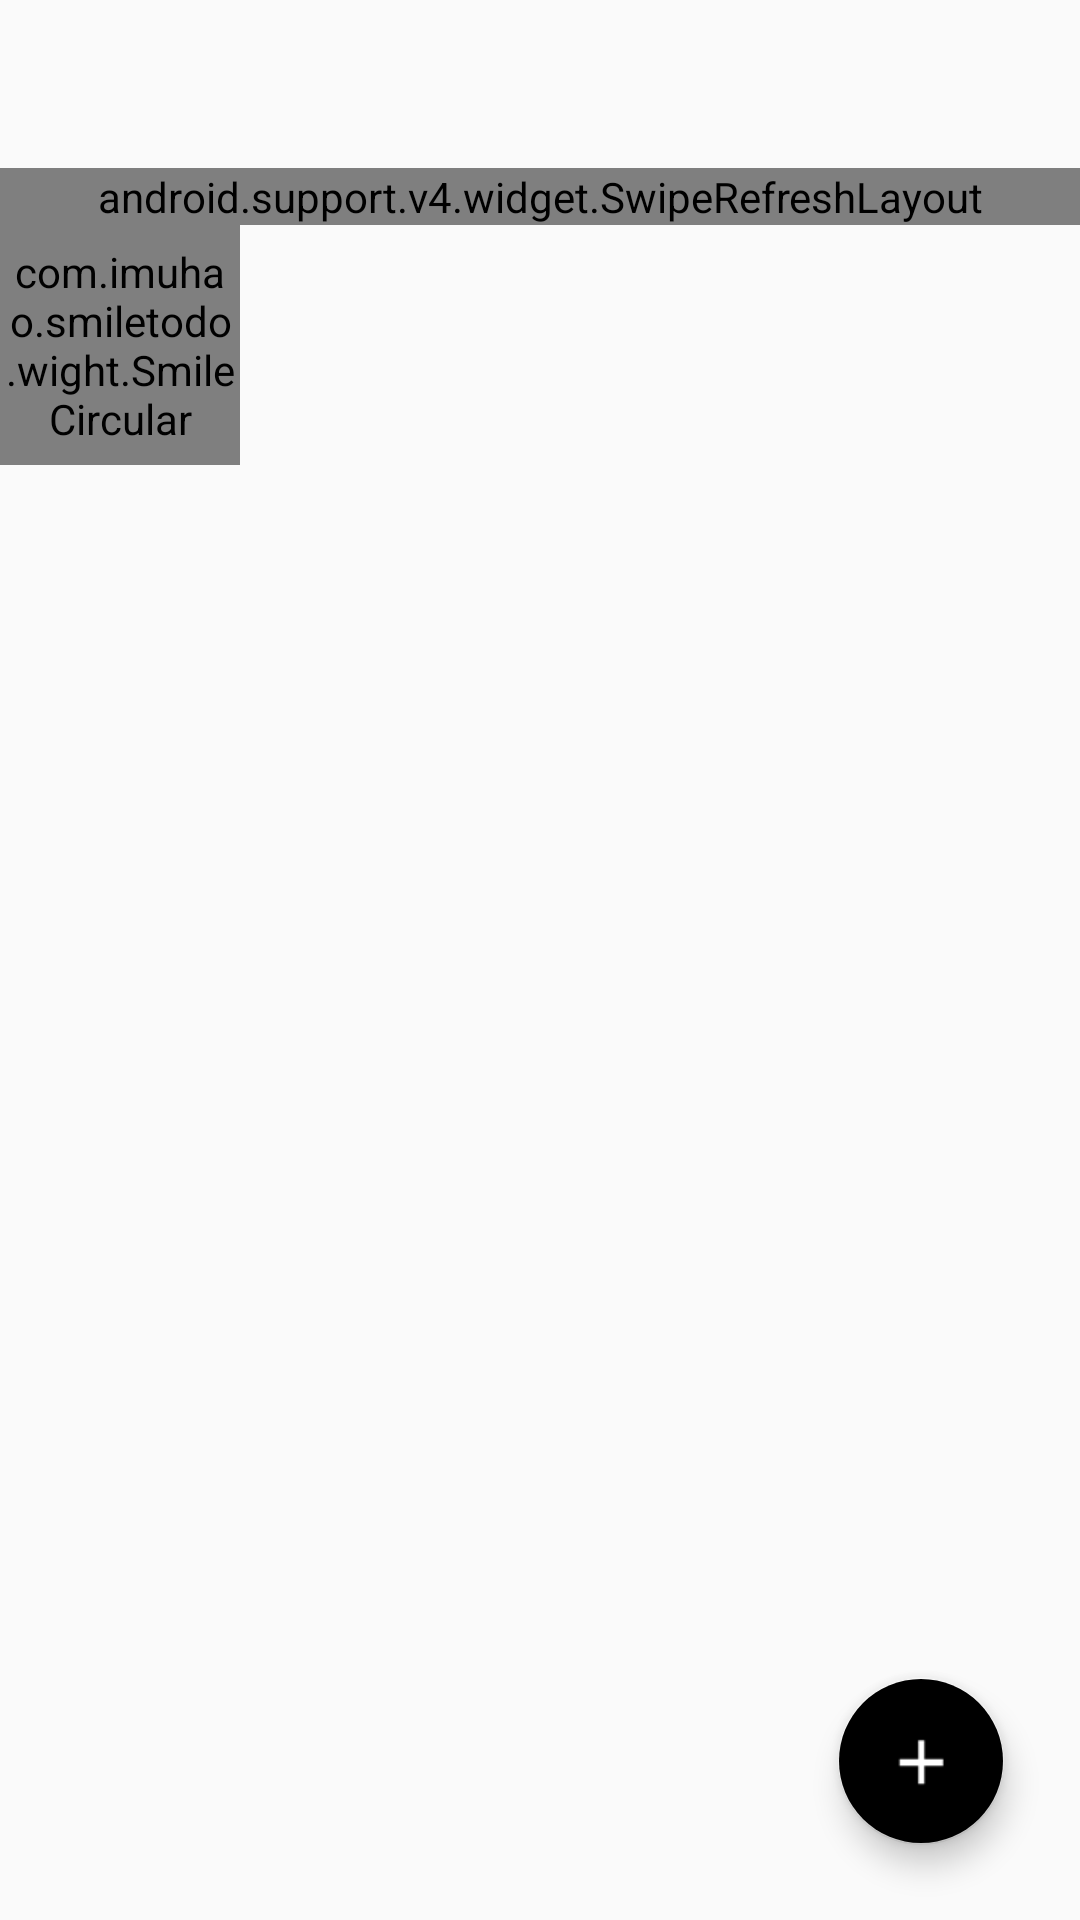

Where to tap for icons on this 1080w x 1920h app screen, as [x,y]:
add: [922,1762]
